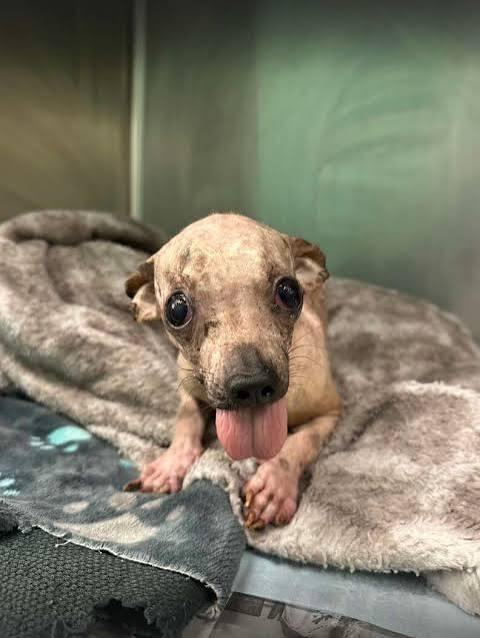puppy-dog: (125, 213, 344, 529)
